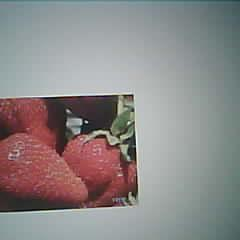straw-ripe: (0, 135, 88, 206)
